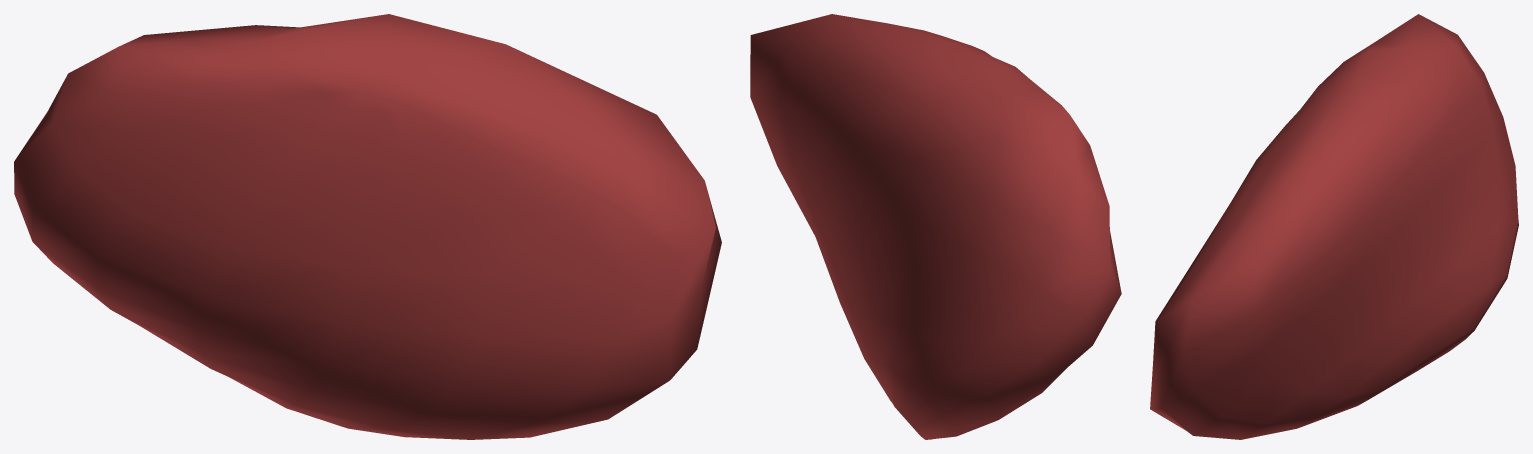
The model's file is bursa-of-piriformis-muscle-l.glb.
3 views of the same model, side by side, from view 1: azimuth 30°, elevation 25°; view 2: azimuth 150°, elevation 25°; view 3: azimuth 270°, elevation 25° (orthographic). The views are drawn at different scales.
Visible parts, largest first — view 1: Bursa of piriformis muscle.l; view 2: Bursa of piriformis muscle.l; view 3: Bursa of piriformis muscle.l.
Part boxes in pixels (x1=…): Bursa of piriformis muscle.l: x1=14, y1=14, x2=721, y2=439; Bursa of piriformis muscle.l: x1=750, y1=14, x2=1121, y2=439; Bursa of piriformis muscle.l: x1=1150, y1=14, x2=1518, y2=439.
Size of the model in its own units: 0.0113 by 0.00813 by 0.0085.
